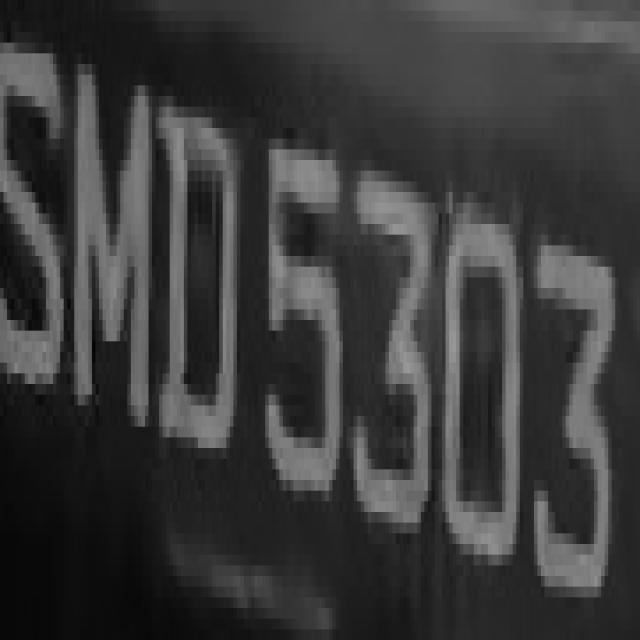0: (435, 139, 527, 608)
3: (523, 160, 619, 619), (350, 128, 431, 555)
5: (255, 75, 350, 522)
D: (156, 74, 244, 490)
M: (64, 32, 152, 448)
S: (4, 32, 67, 416)
